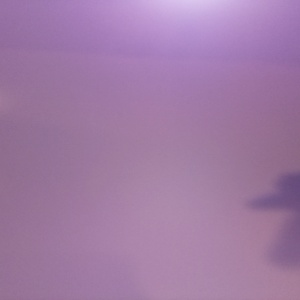alive_ball: (227, 24, 300, 112), (115, 34, 169, 90)
dead_ball: (1, 18, 39, 88), (147, 30, 190, 77)
